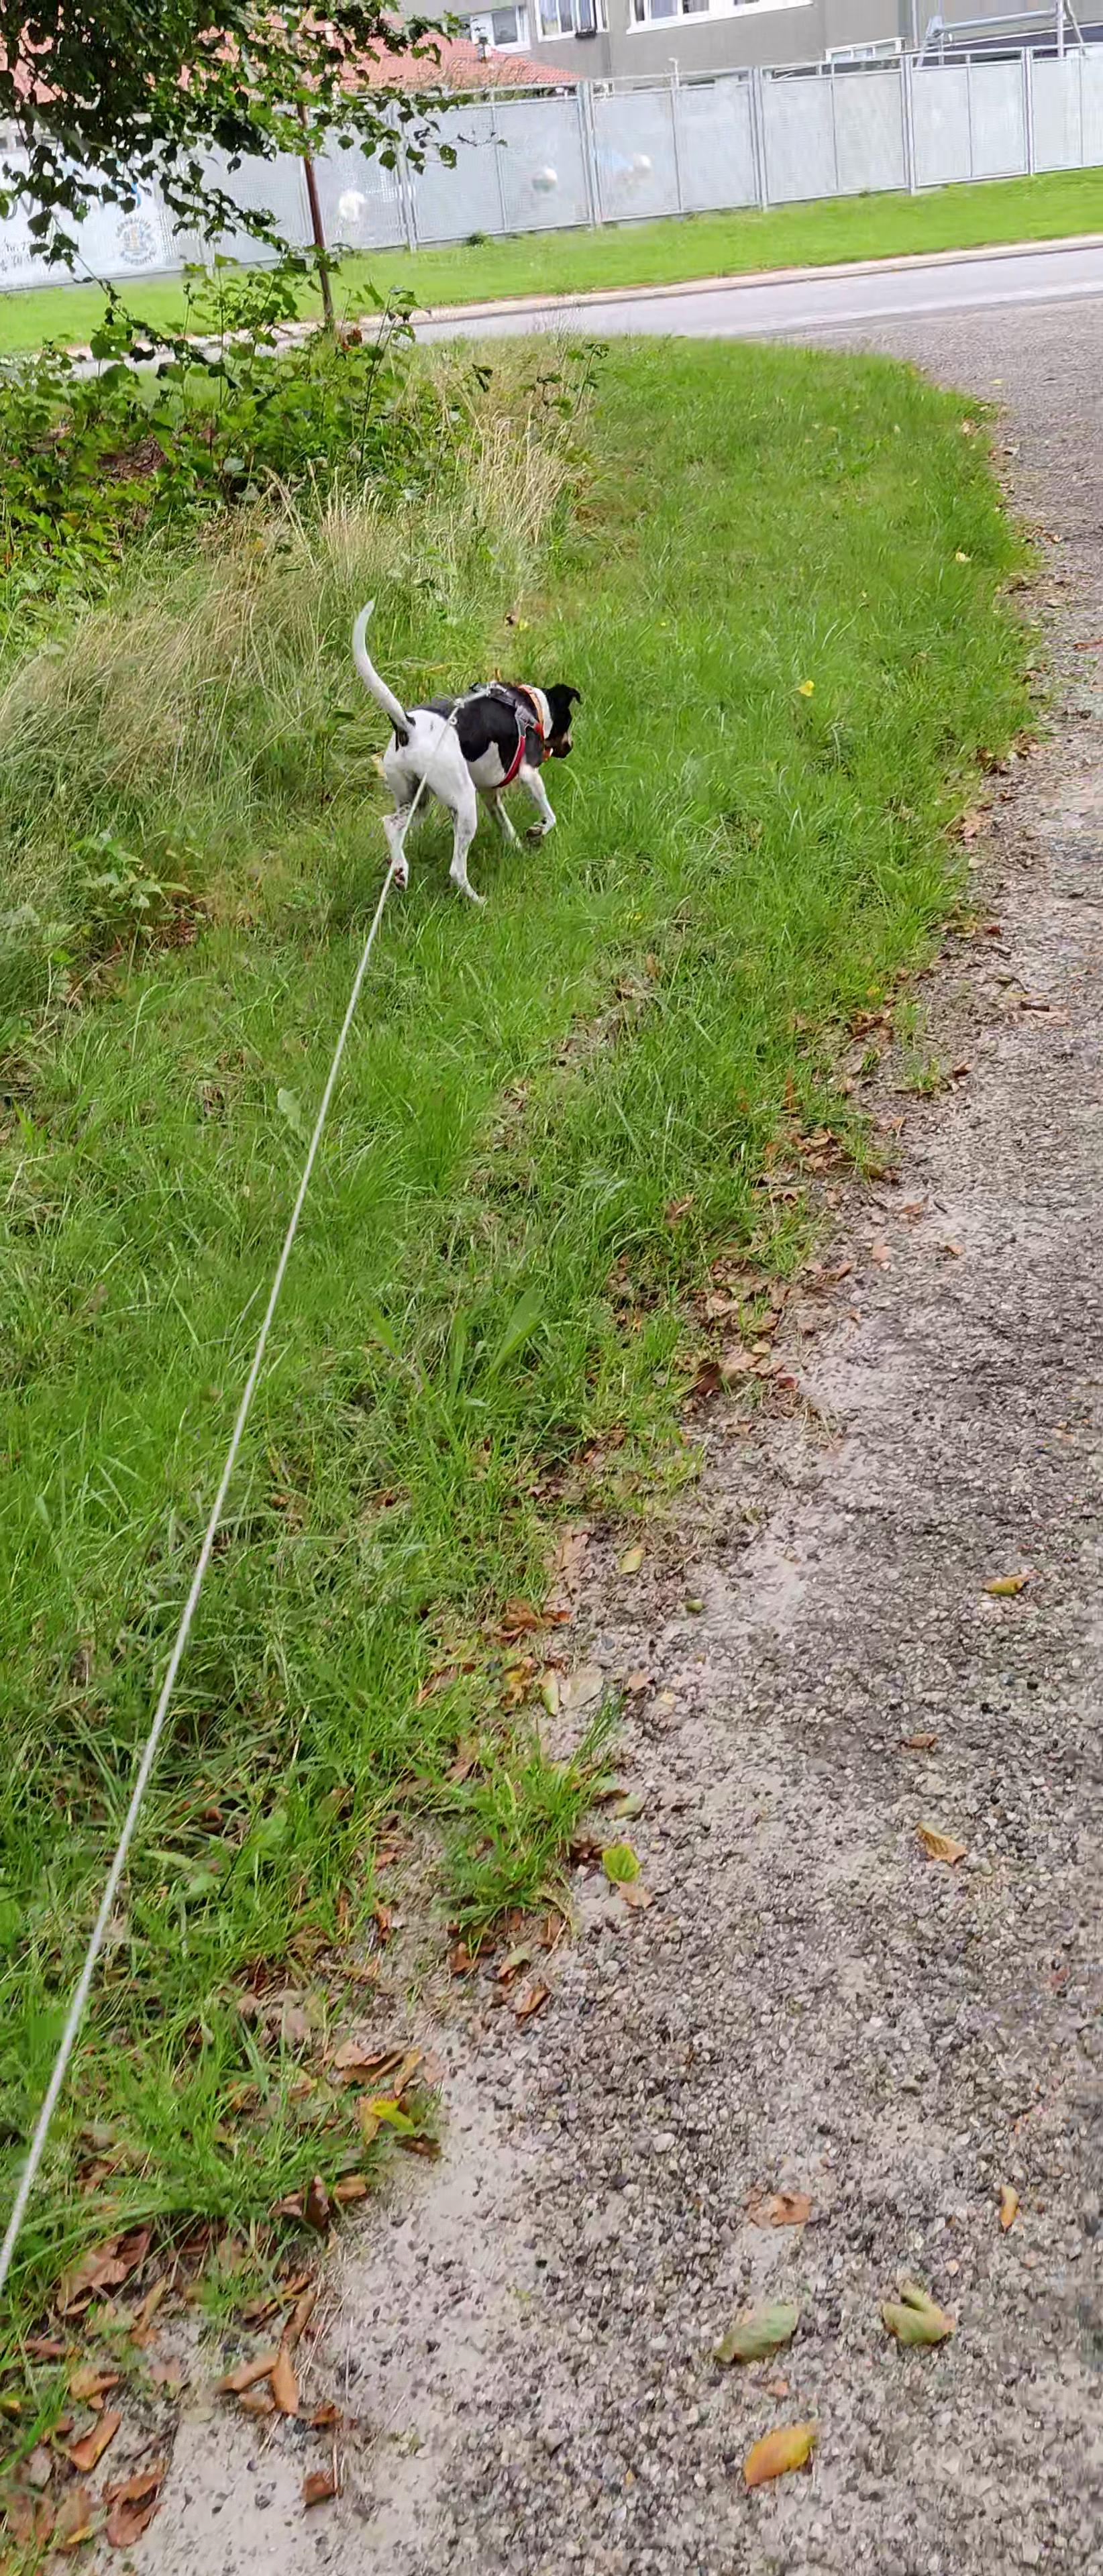Dog: (340, 588, 585, 910)
